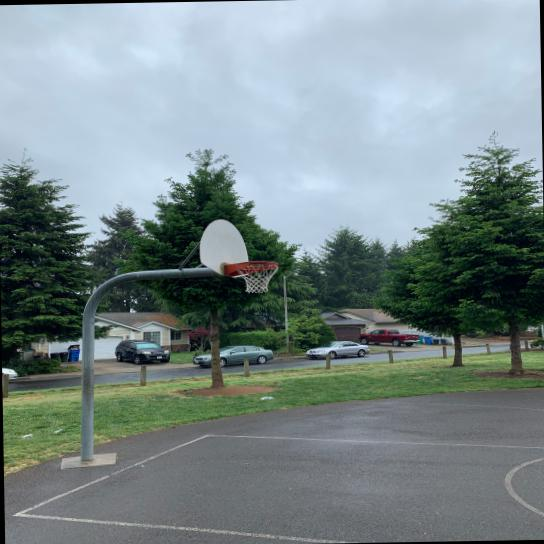basketball-hoop: (234, 260, 280, 294)
